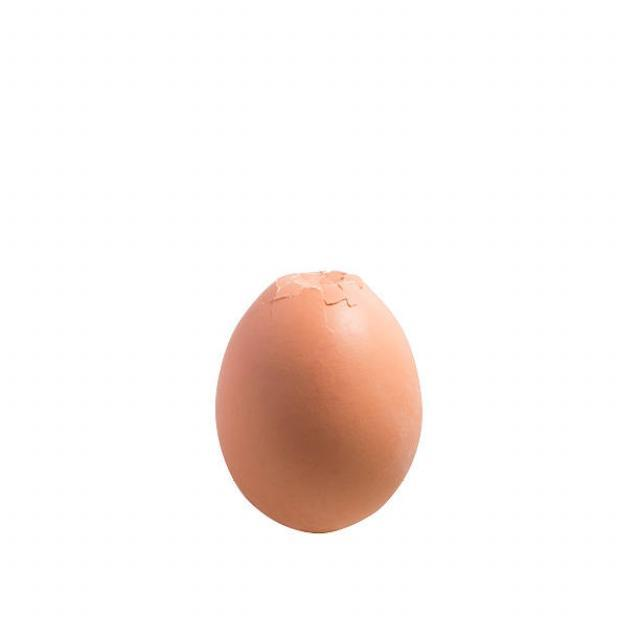biodegradable: (210, 264, 424, 534)
